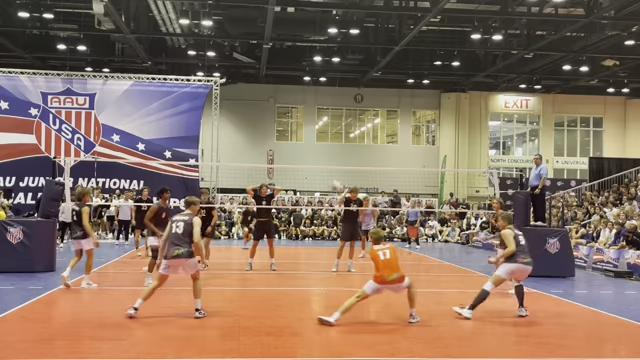Player: (126, 196, 206, 318), (453, 213, 532, 318), (61, 188, 98, 287), (246, 184, 280, 270), (332, 187, 363, 271), (144, 187, 170, 285), (198, 189, 217, 261), (133, 187, 152, 256), (358, 196, 378, 257), (240, 200, 254, 248), (406, 200, 420, 248)
Receive: (315, 226, 422, 326)
